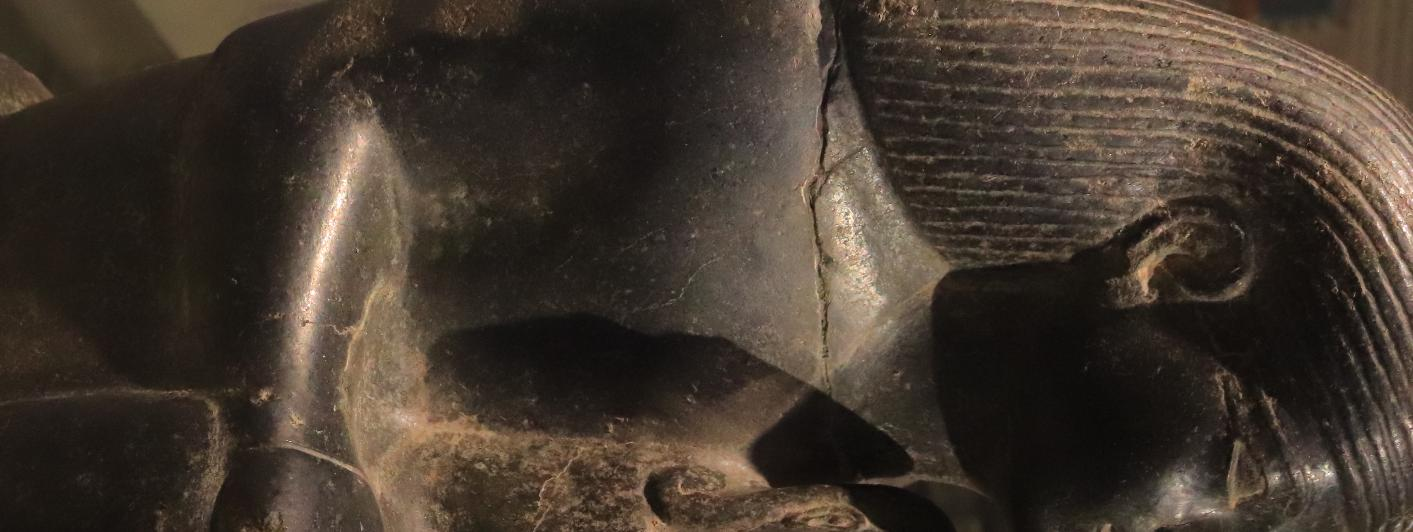Senenmut: (0, 0, 791, 532)
